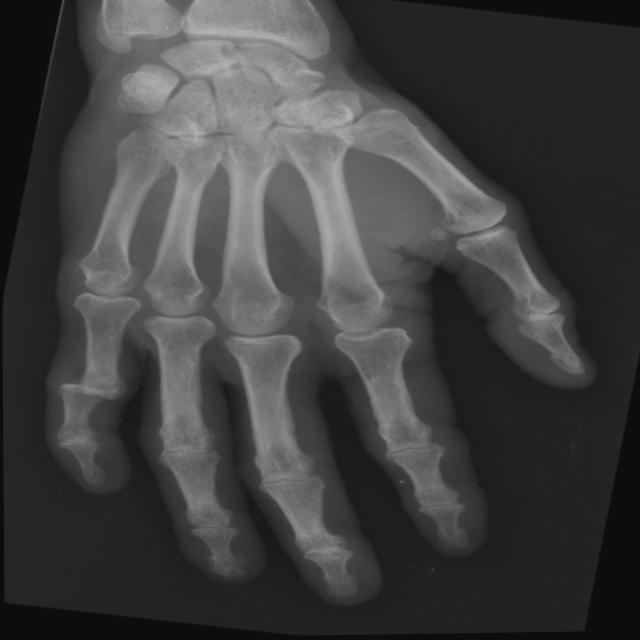Transverse Displaced: (26, 357, 146, 414)
